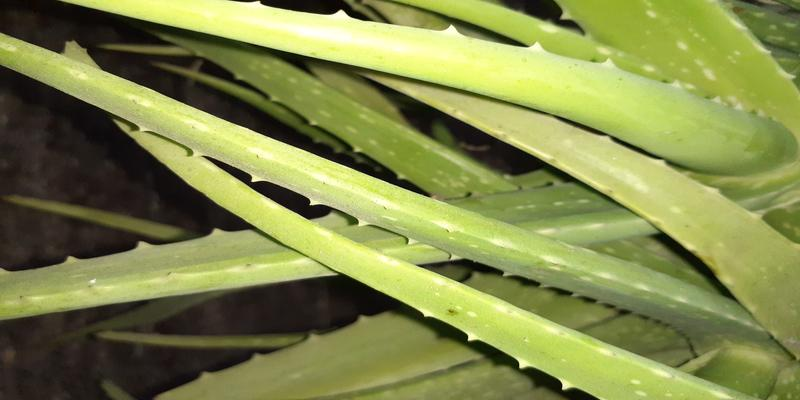Aloevera: (111, 13, 788, 373)
